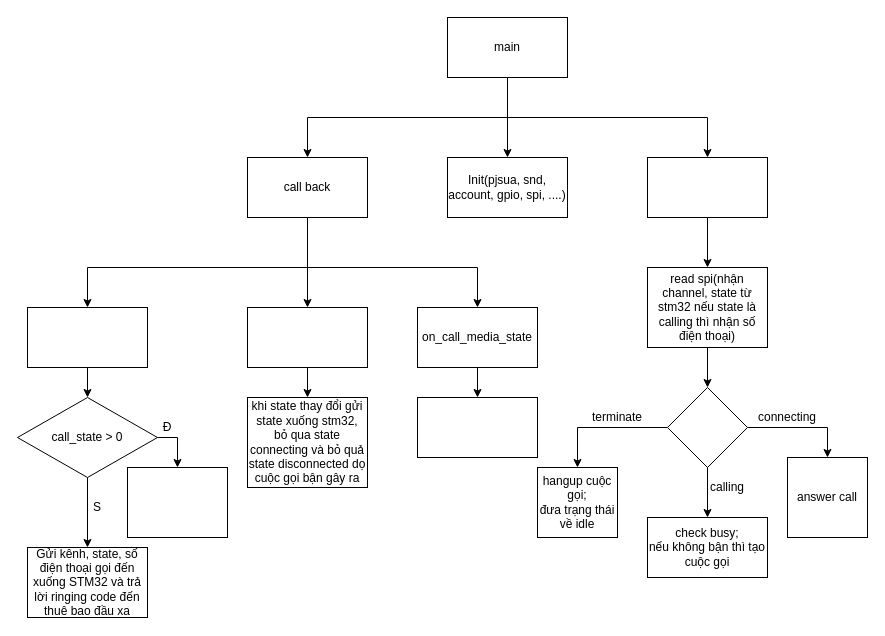
Some shapes in this 885 by 636 pixel diagram are drawn without their labels. Here are the shapes that lost their labels. From the top down, the centre of each, then its label:
the point at 707,187: Poll gpio(rising edge)
the point at 87,337: on_incoming_call
the point at 307,337: on_call_state
the point at 477,427: connect sound card
the point at 707,427: state
the point at 177,502: Busy: hangup cuộc gọi
